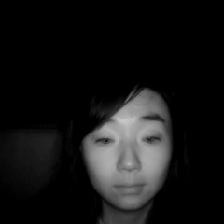normal: (70, 65, 184, 219)
